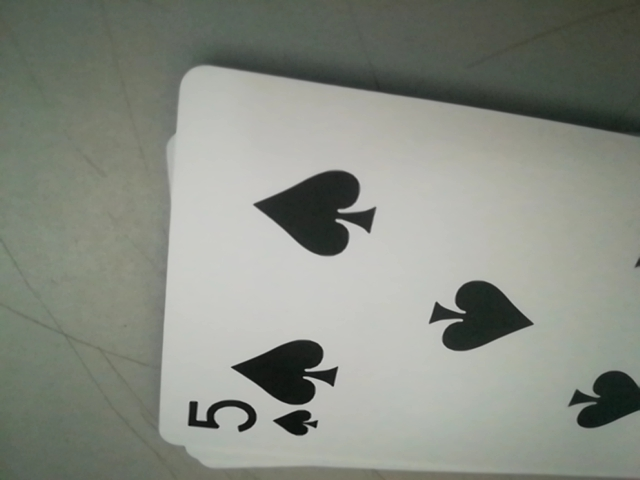ht 5: (180, 396, 329, 449)
